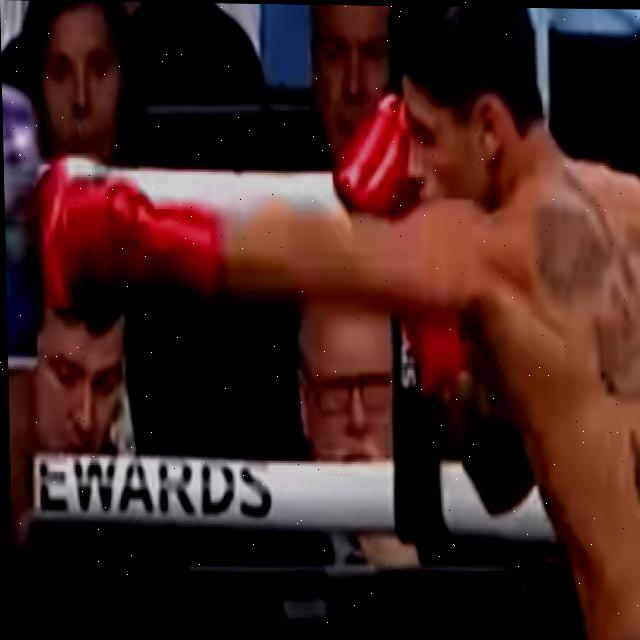Jab: (5, 13, 640, 640)
